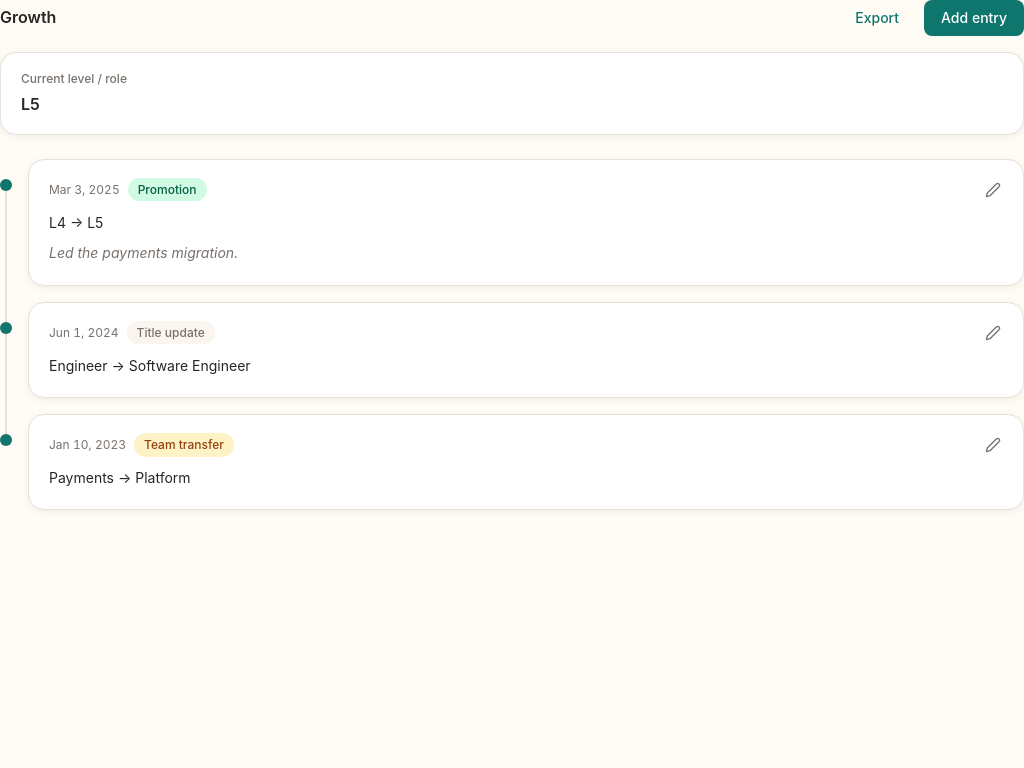
Test: GrowthTimeline › opens the edit form pre-filled and updates the entry in place
Step 1. Click the button named "Edit promotion entry from March 3, 2025" → click(993, 190), box [971, 168, 1015, 212]
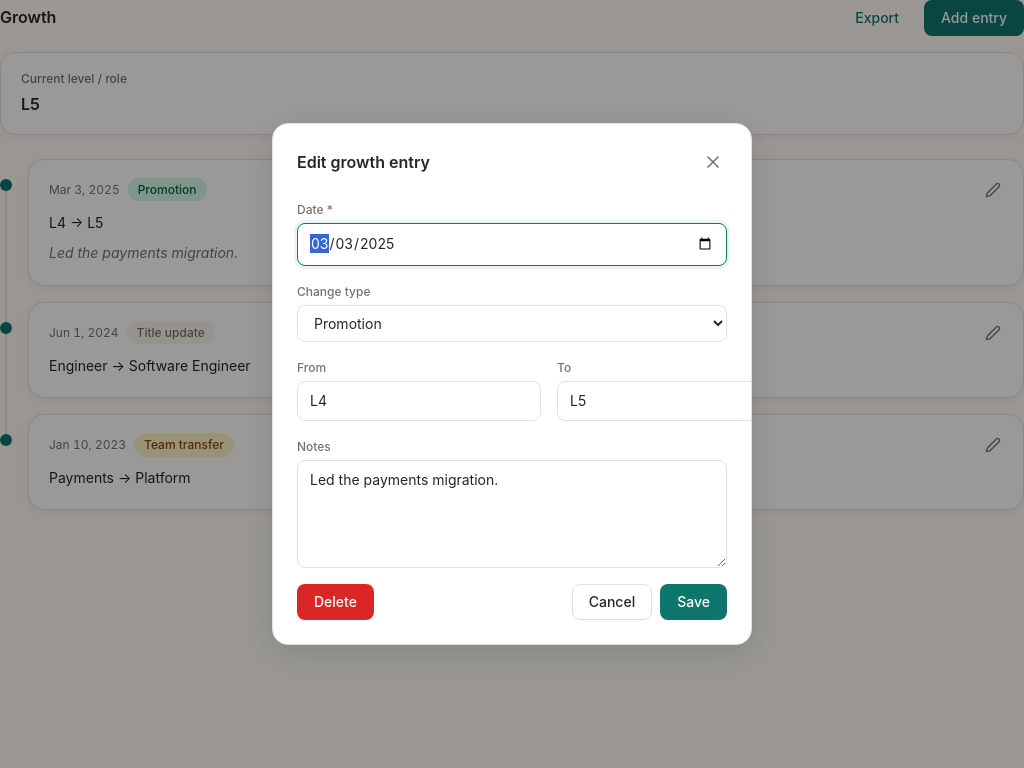
expect the date field labelled "Date *" holds "2025-03-03": met, box [297, 223, 727, 266]
expect the dropdown labelled "Change type" shows "Promotion": met, box [297, 305, 727, 342]
expect the field labelled "From" holds "L4": met
Step 2. Replace the text in the field labelled "From" with "L3" → (419, 401), box [297, 381, 541, 421]
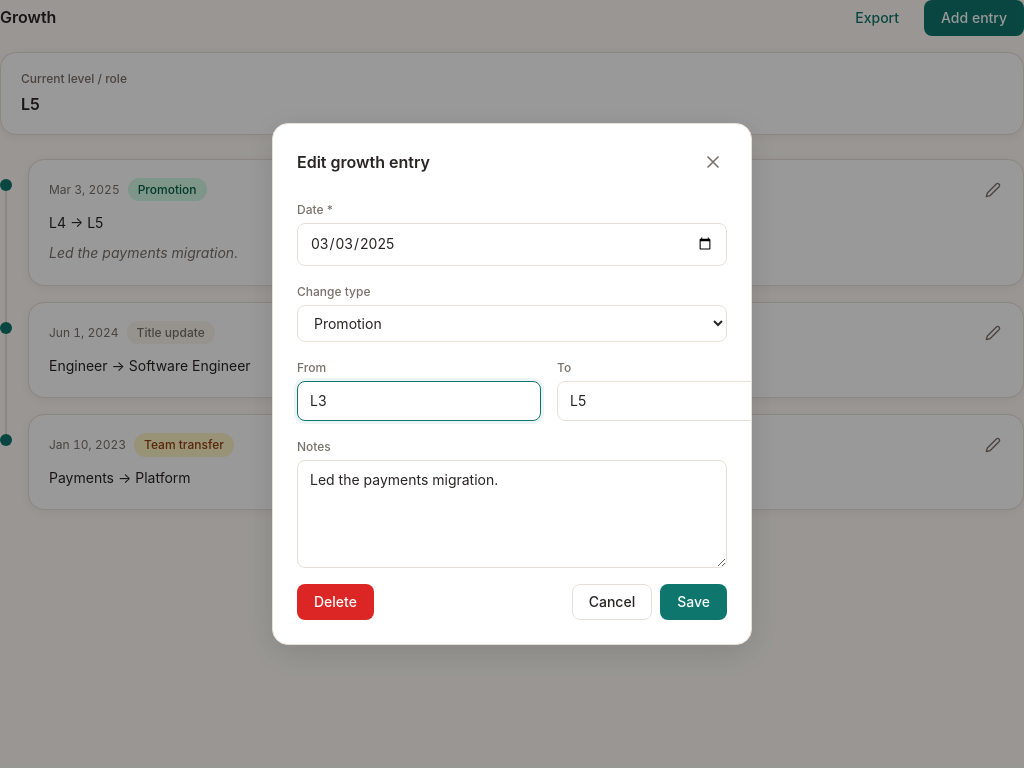
Step 3. Click the button "Save" → click(694, 602), box [660, 584, 727, 620]
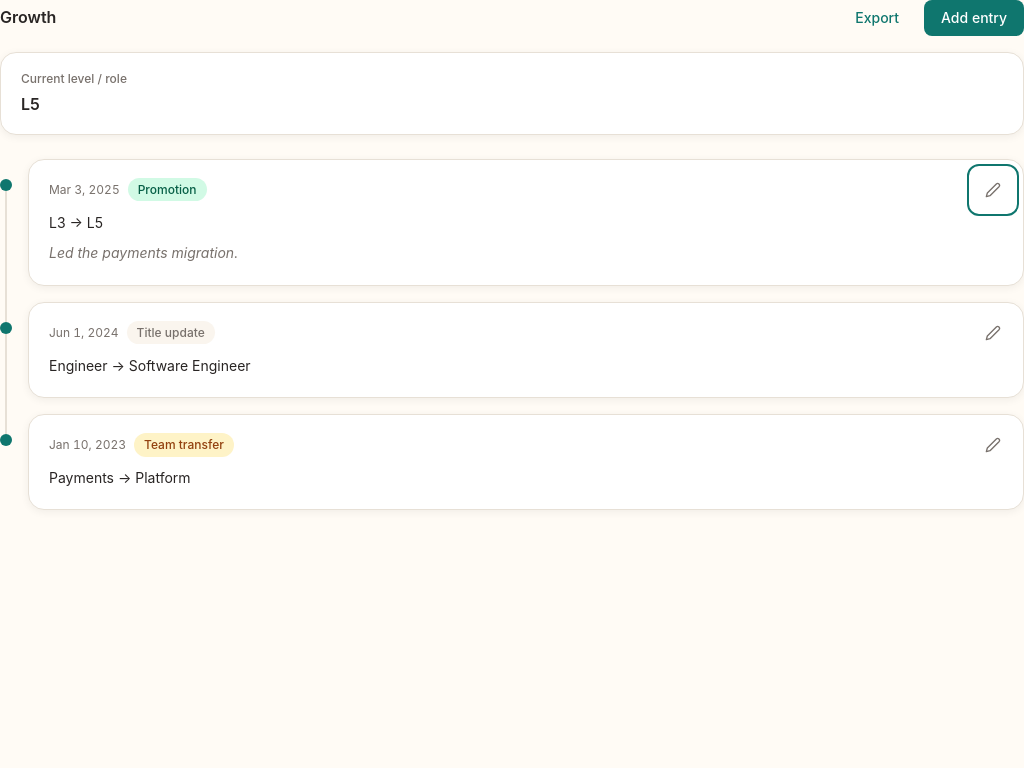
expect the number of list items is 3: met, box [0, 159, 1023, 286]; [0, 302, 1023, 398]; [0, 414, 1023, 510]
expect the dialog is gone: met
expect the text "L3 → L5" is shown: met, box [49, 214, 103, 231]
